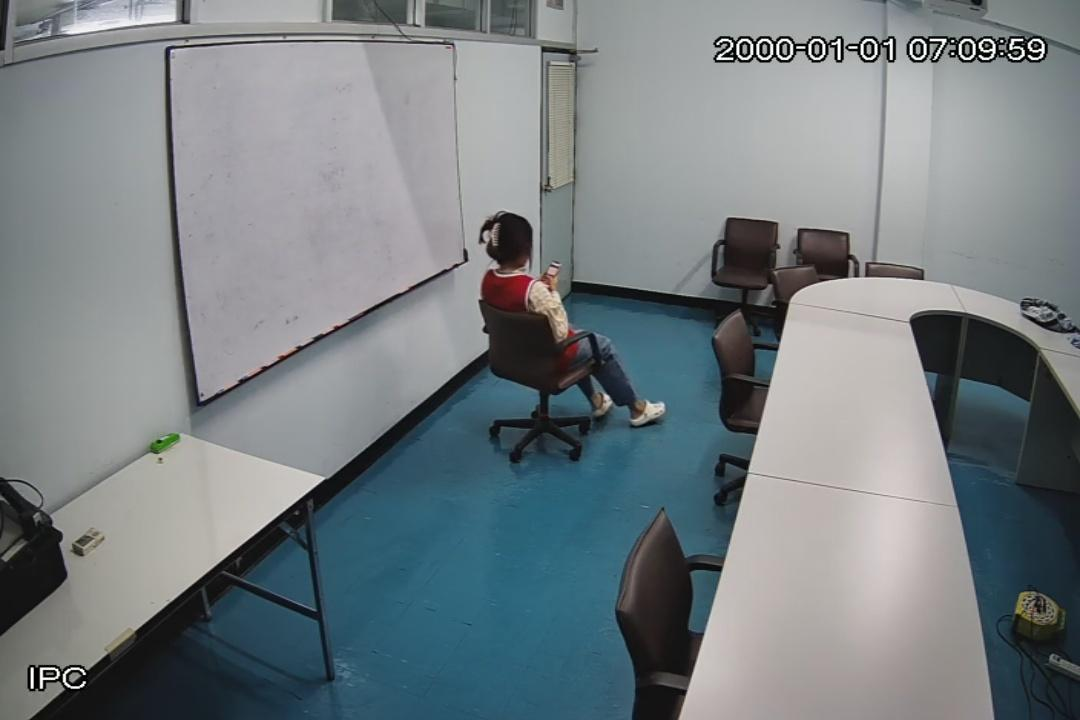normal: (483, 208, 666, 430)
